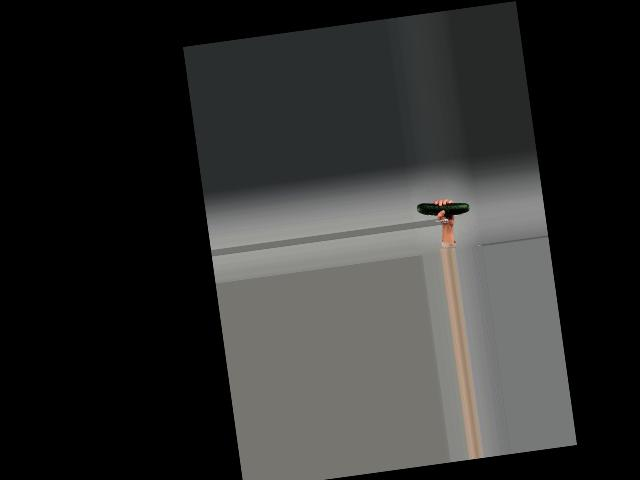cucumber: (416, 197, 468, 220)
